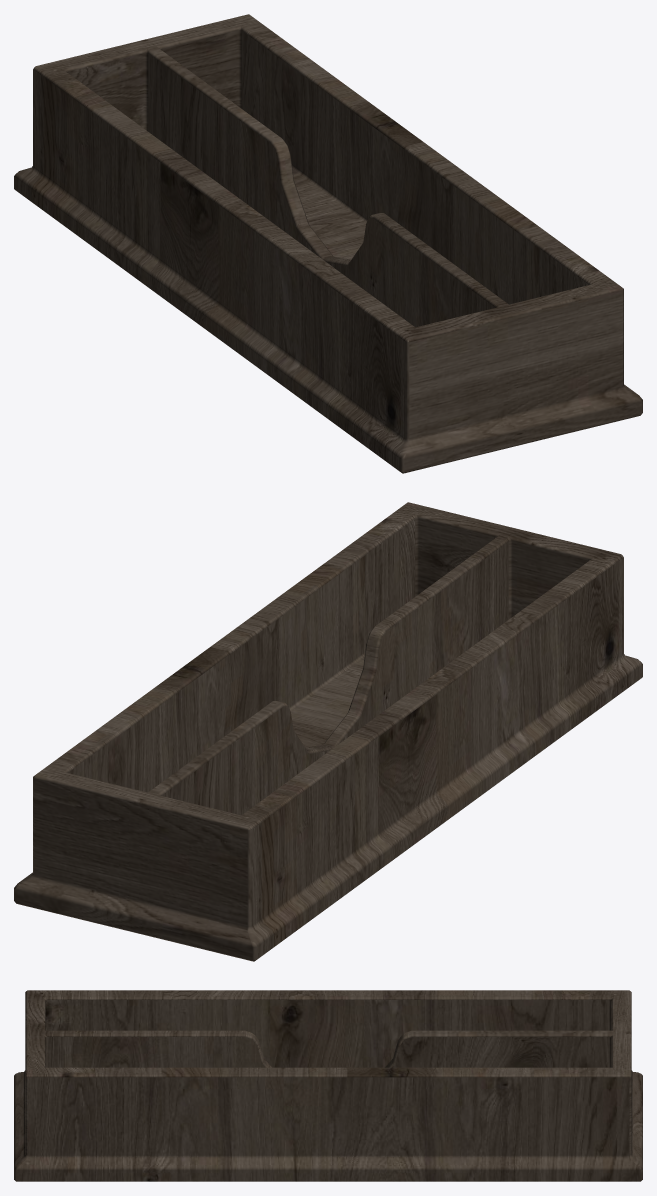
File: Cutlery Container 1.fbx
The picture shows the model from 3 angles, top to bottom: view 1: azimuth 30°, elevation 25°; view 2: azimuth 150°, elevation 25°; view 3: azimuth 270°, elevation 25°; orthographic projection. The views are drawn at different scales.
Visible parts, largest first — view 1: Cutlery Container; view 2: Cutlery Container; view 3: Cutlery Container.
Part boxes in pixels (x1,y1,x2,y2): Cutlery Container: [14, 14, 642, 473]; Cutlery Container: [14, 502, 642, 961]; Cutlery Container: [14, 990, 642, 1181].
Size of the model in its own units: 0.2779 by 0.05 by 0.1001.
